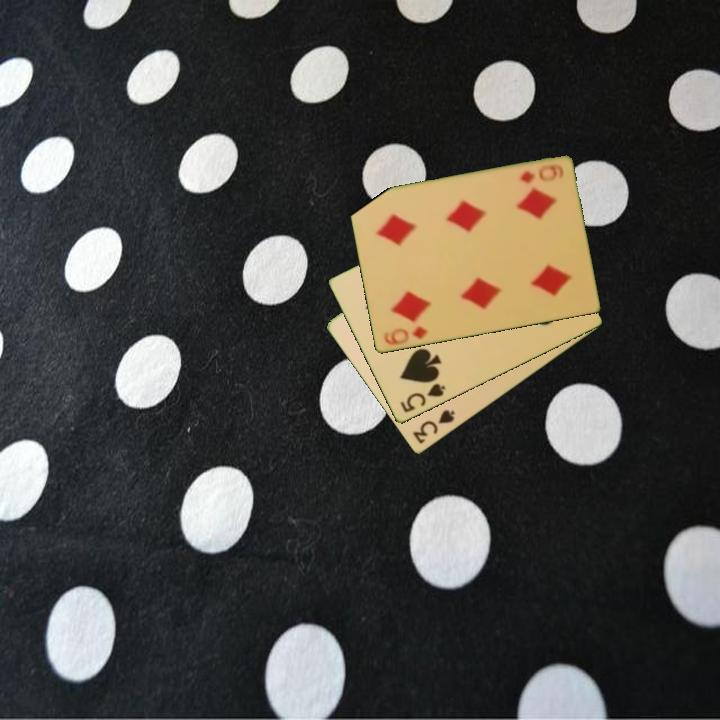3s: (409, 406, 457, 447)
5s: (397, 380, 448, 416)
6d: (380, 323, 430, 349), (516, 161, 560, 187)
